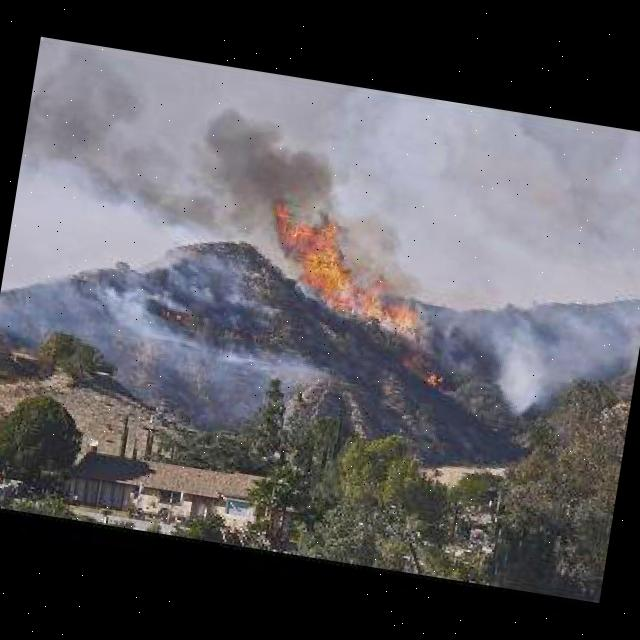fire: (31, 53, 337, 244), (266, 200, 442, 328), (404, 350, 428, 367), (426, 370, 436, 382), (174, 312, 185, 322)
